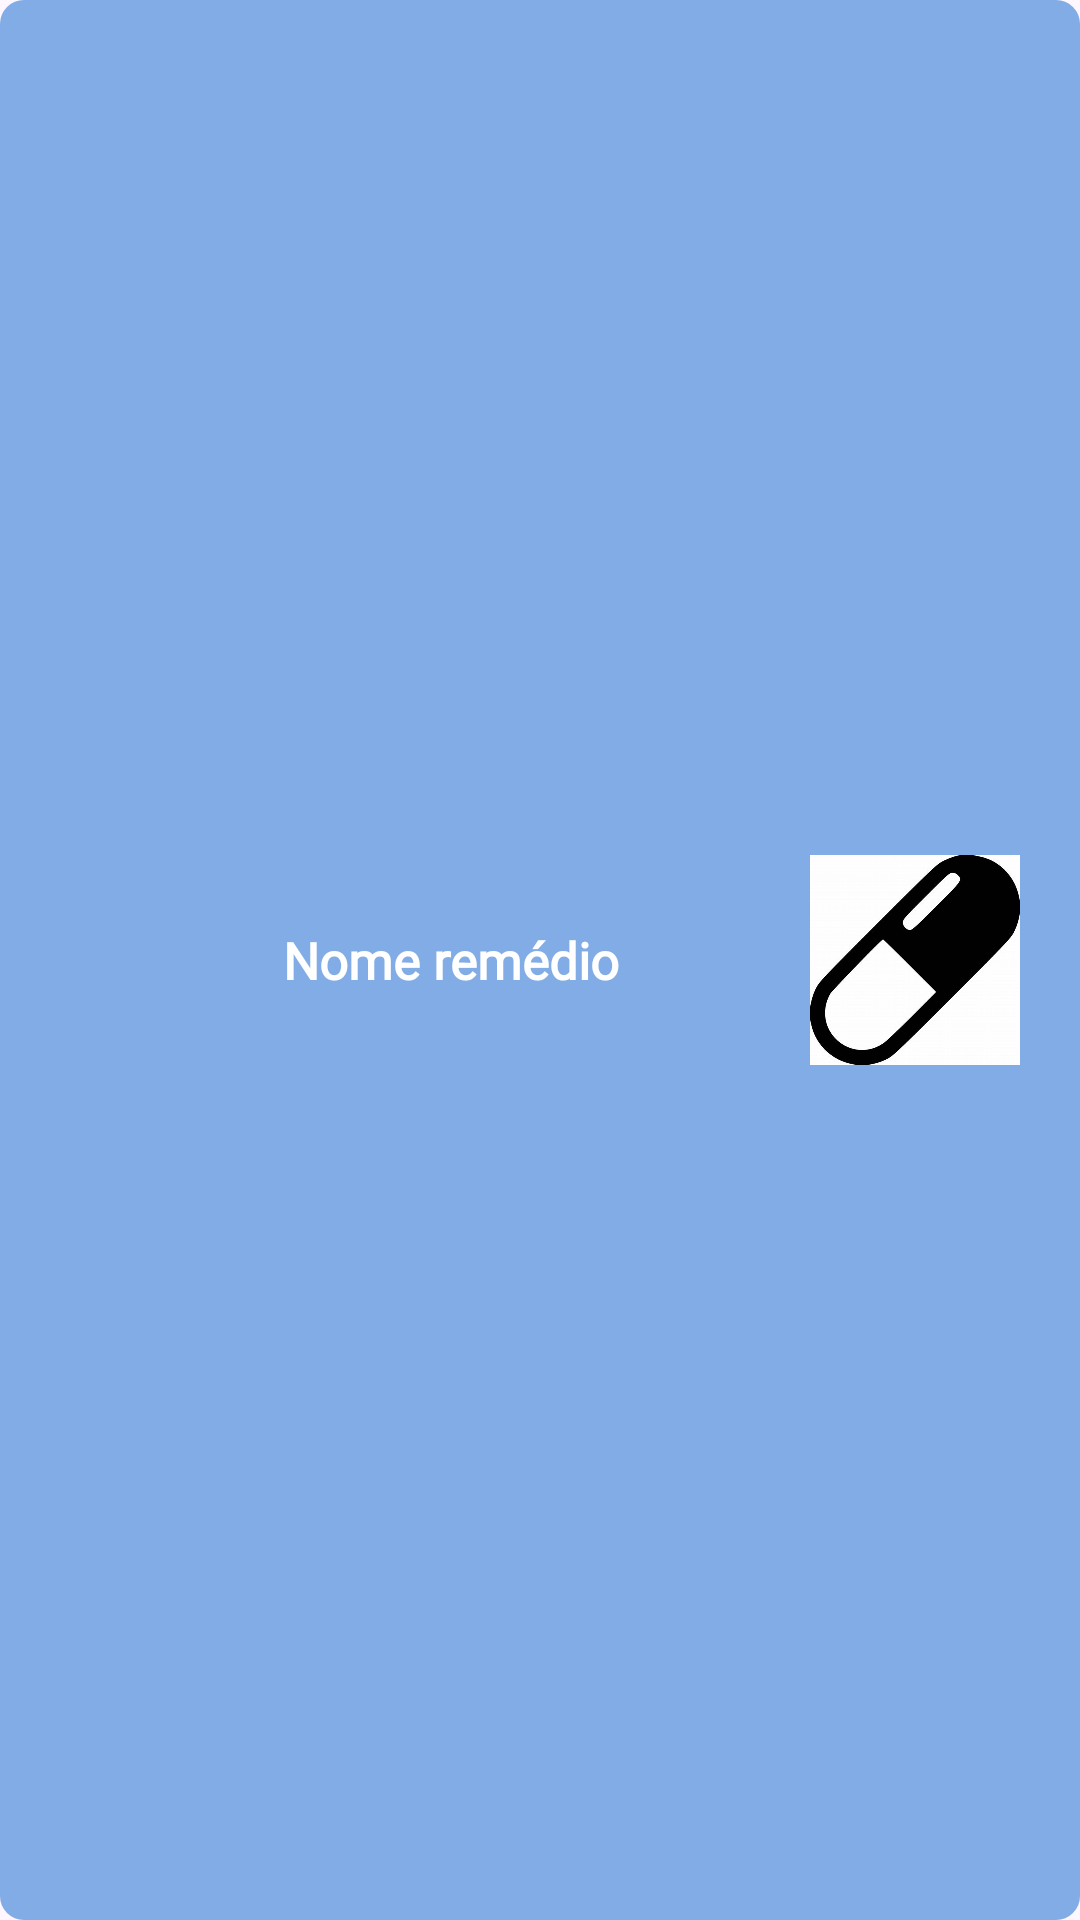

Icons on this 1080 × 1920 Android screen, each with its box as BBox(x1, y1, x2, y2):
pill: BBox(810, 855, 1020, 1065)
